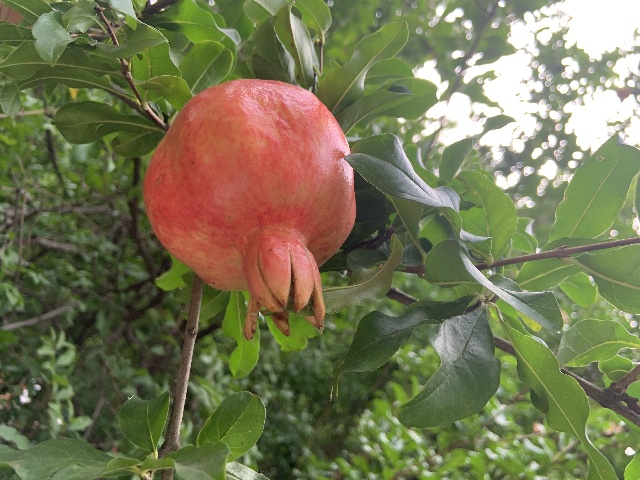ripe: (143, 78, 356, 342)
